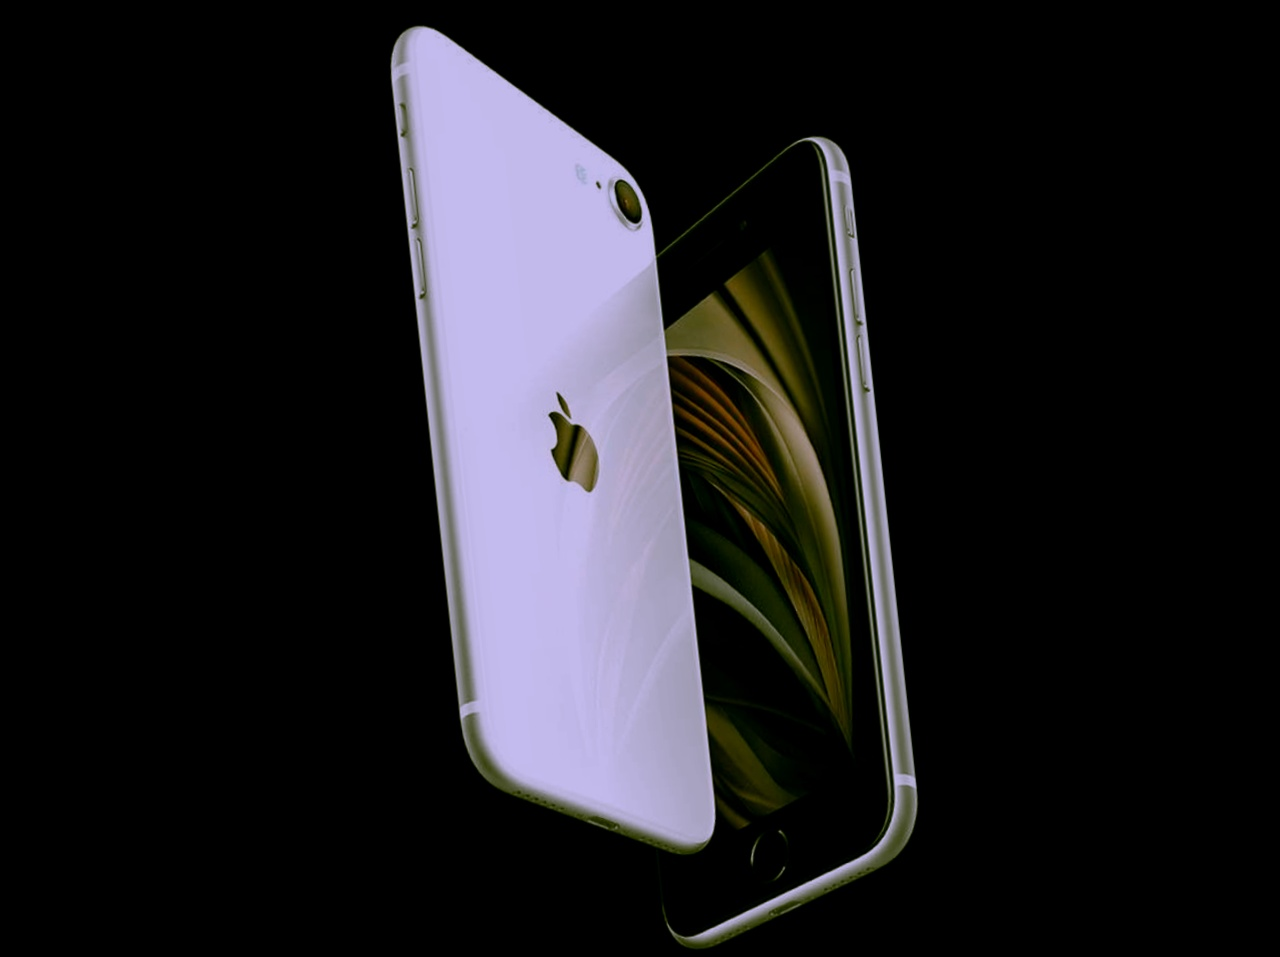iphone: (520, 88, 904, 957)
